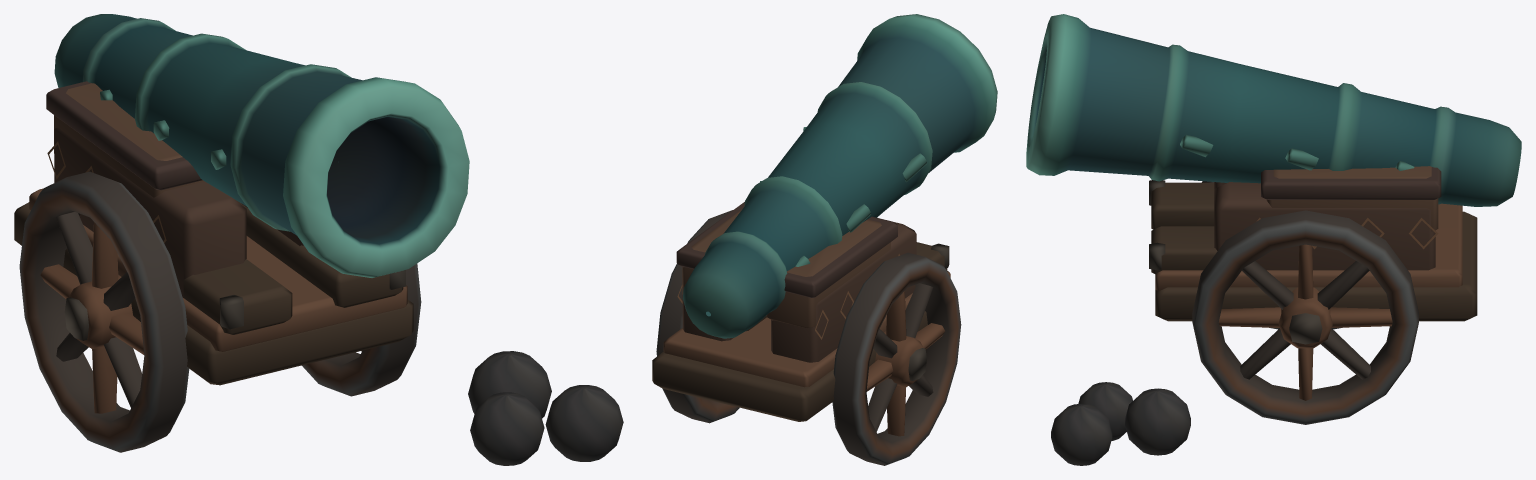
Rendered from top.glb.
3 views of the same model, side by side, from view 1: azimuth 30°, elevation 25°; view 2: azimuth 150°, elevation 25°; view 3: azimuth 270°, elevation 25° (orthographic). The views are drawn at different scales.
Parts seen in each view (by area): view 1: NamluMesh, TopMesh, TekerlekSolMesh, GullelerMesh, TekerlekSagMesh; view 2: NamluMesh, TopMesh, TekerlekSolMesh, TekerlekSagMesh; view 3: NamluMesh, TopMesh, TekerlekSagMesh, GullelerMesh.
Part boxes in pixels (<box>): NamluMesh: <box>54,14,469,277</box>; TopMesh: <box>14,81,413,385</box>; TekerlekSolMesh: <box>19,171,189,452</box>; GullelerMesh: <box>468,351,623,465</box>; TekerlekSagMesh: <box>302,263,421,396</box>; NamluMesh: <box>683,14,997,338</box>; TopMesh: <box>652,202,950,421</box>; TekerlekSolMesh: <box>832,252,961,465</box>; TekerlekSagMesh: <box>656,210,739,423</box>; NamluMesh: <box>1026,14,1521,206</box>; TopMesh: <box>1149,166,1477,321</box>; TekerlekSagMesh: <box>1192,210,1418,424</box>; GullelerMesh: <box>1051,382,1190,465</box>.
Size of the model in its own units: 1.56 by 1.62 by 2.06.
